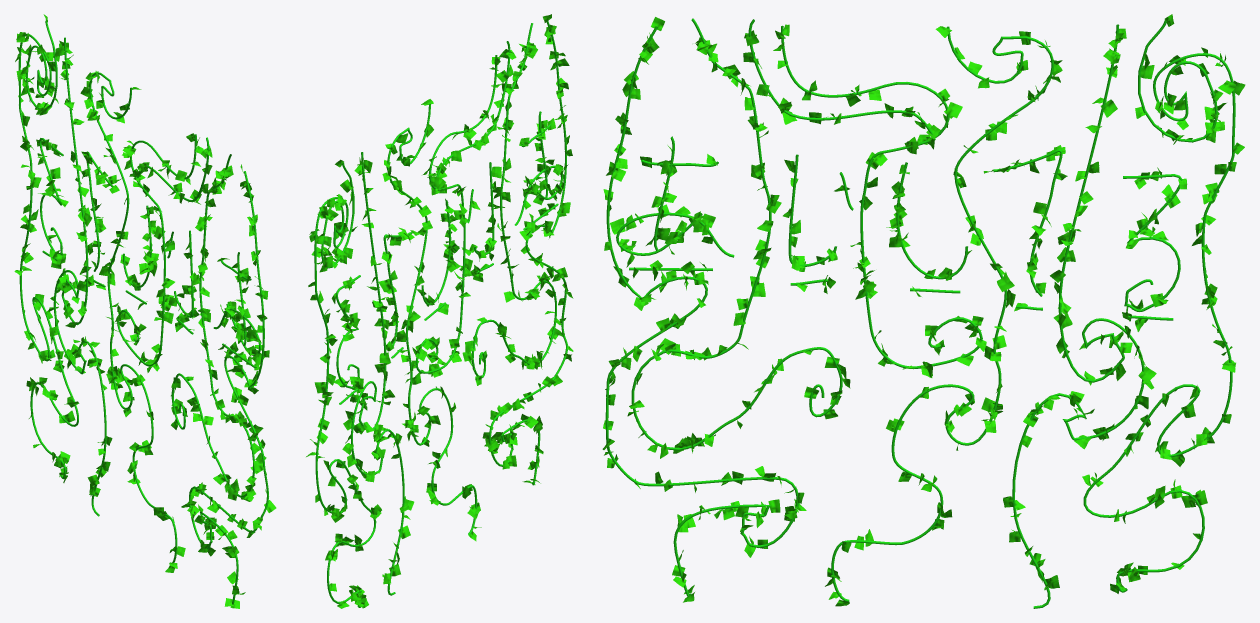
Rendered from vine2.fbx.
3 renders of one model, left to right at view 1: azimuth 30°, elevation 25°; view 2: azimuth 150°, elevation 25°; view 3: azimuth 270°, elevation 25°, orthographic. The views are drawn at different scales.
Parts seen in each view (by area): view 1: BézierCurve.002; view 2: BézierCurve.002; view 3: BézierCurve.002.
Boxes of the visible parts, x1,y1,x2,y2 form: BézierCurve.002: (14, 14, 276, 608); BézierCurve.002: (306, 14, 573, 608); BézierCurve.002: (602, 14, 1245, 608).
Size of the model in its own units: 30.24 by 601 by 589.
